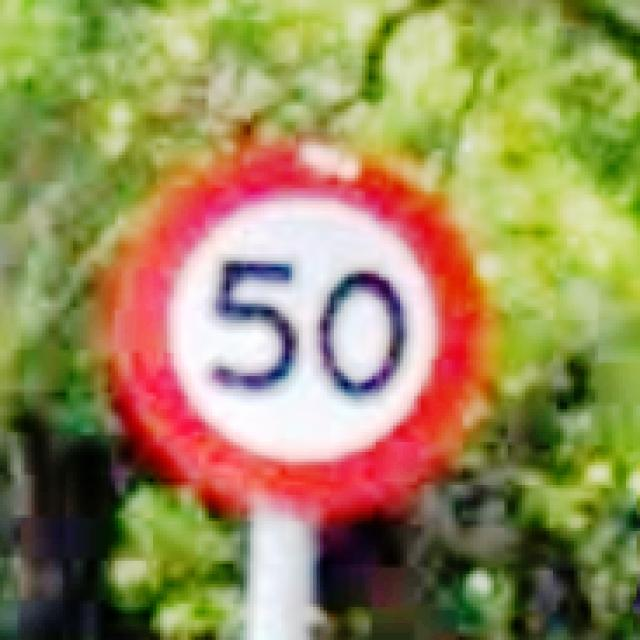max50: (101, 135, 497, 521)
